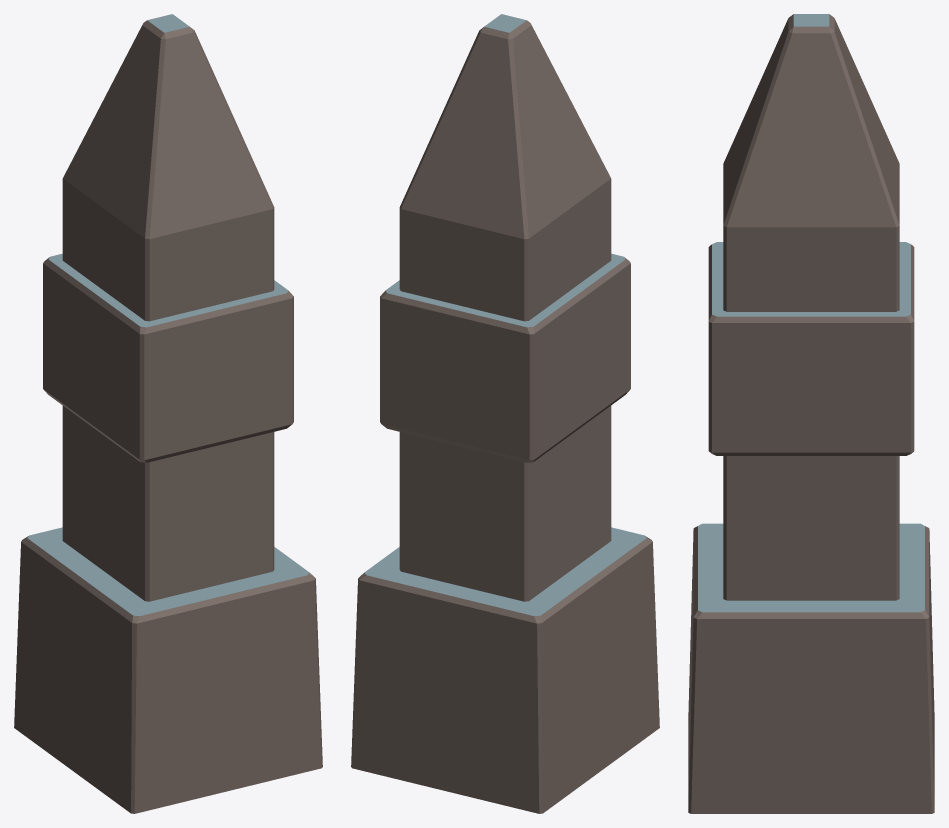
File: Building3.FBX
The picture shows the model from 3 angles, left to right: view 1: azimuth 30°, elevation 25°; view 2: azimuth 150°, elevation 25°; view 3: azimuth 270°, elevation 25°; orthographic projection. The views are drawn at different scales.
Visible parts, largest first — view 1: Box002; view 2: Box002; view 3: Box002.
Part boxes in pixels (x1,y1,x2,y2): Box002: [14, 14, 322, 813]; Box002: [351, 14, 659, 813]; Box002: [688, 14, 934, 813].
Bounding box in the file's own units: 15.12 × 54.51 × 16.33.
